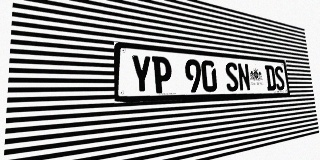0: (201, 60, 217, 92)
9: (185, 59, 202, 92)
D: (265, 65, 277, 91)
N: (237, 63, 251, 91)
P: (152, 56, 173, 93)
S: (224, 62, 239, 92), (274, 66, 285, 90)
Y: (130, 54, 153, 94)
